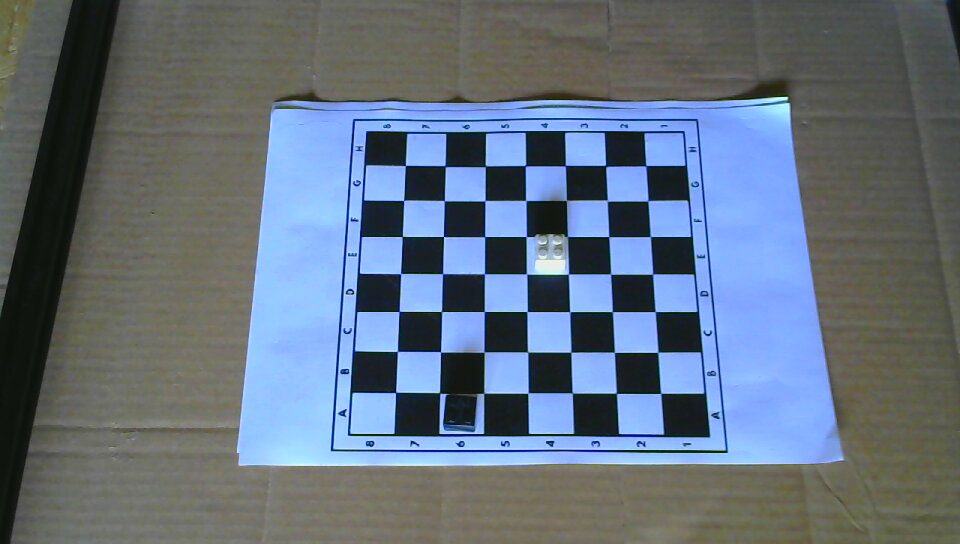bp: (442, 393, 479, 433)
wp: (533, 231, 567, 273)
